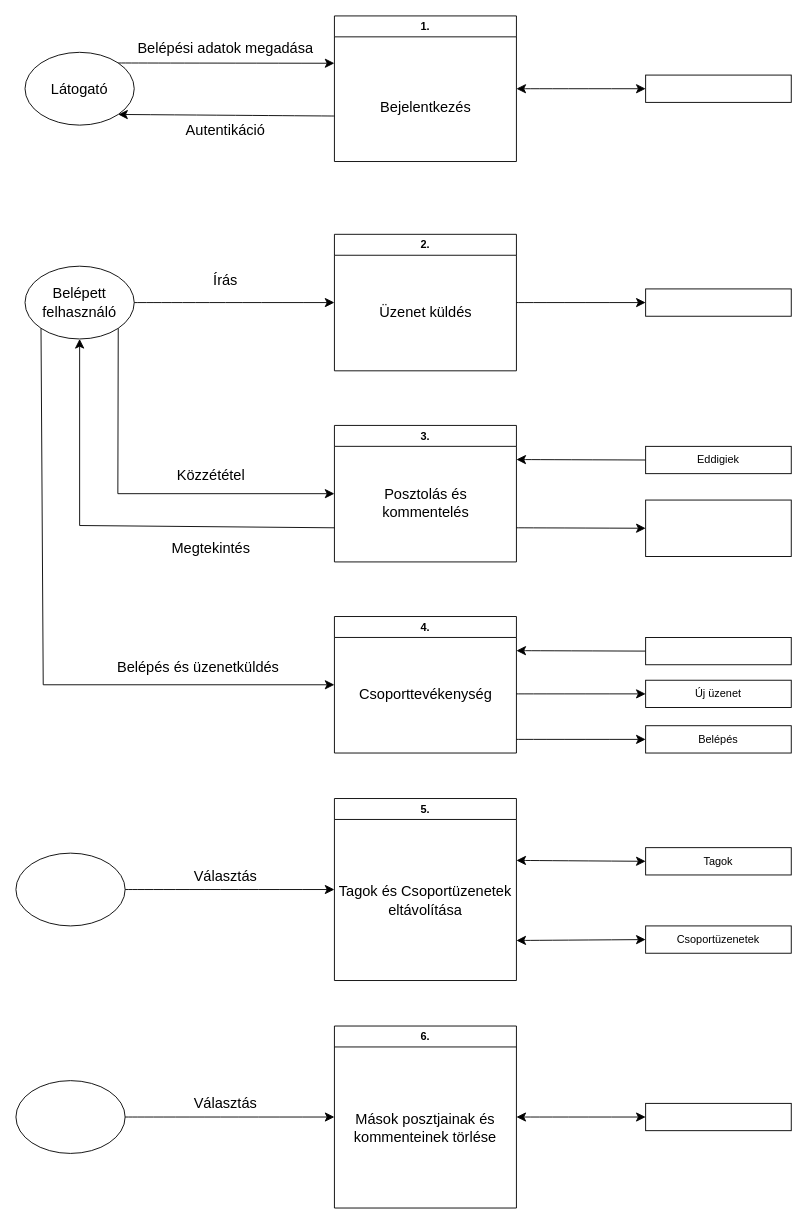
Image size: 807x1224. Some labels were removed from this diagram. Here are the shapes that lost their labels. From the top down, the centre of each, then its label:
the point at 718,88: Hitelesítő szolgáltatás
the point at 718,302: Másik felhasználó
the point at 718,527: Létrehozás vagy Saját módosítása és törlése
the point at 718,651: Üzenetek
the point at 70,889: Csoport admin
the point at 70,1116: Rendszer admin
the point at 718,1116: Posztok és kommentek
